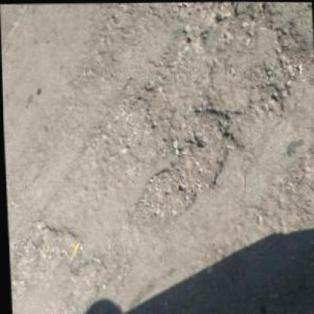Hueco: (173, 100, 241, 194), (130, 162, 192, 230), (64, 254, 110, 304)
